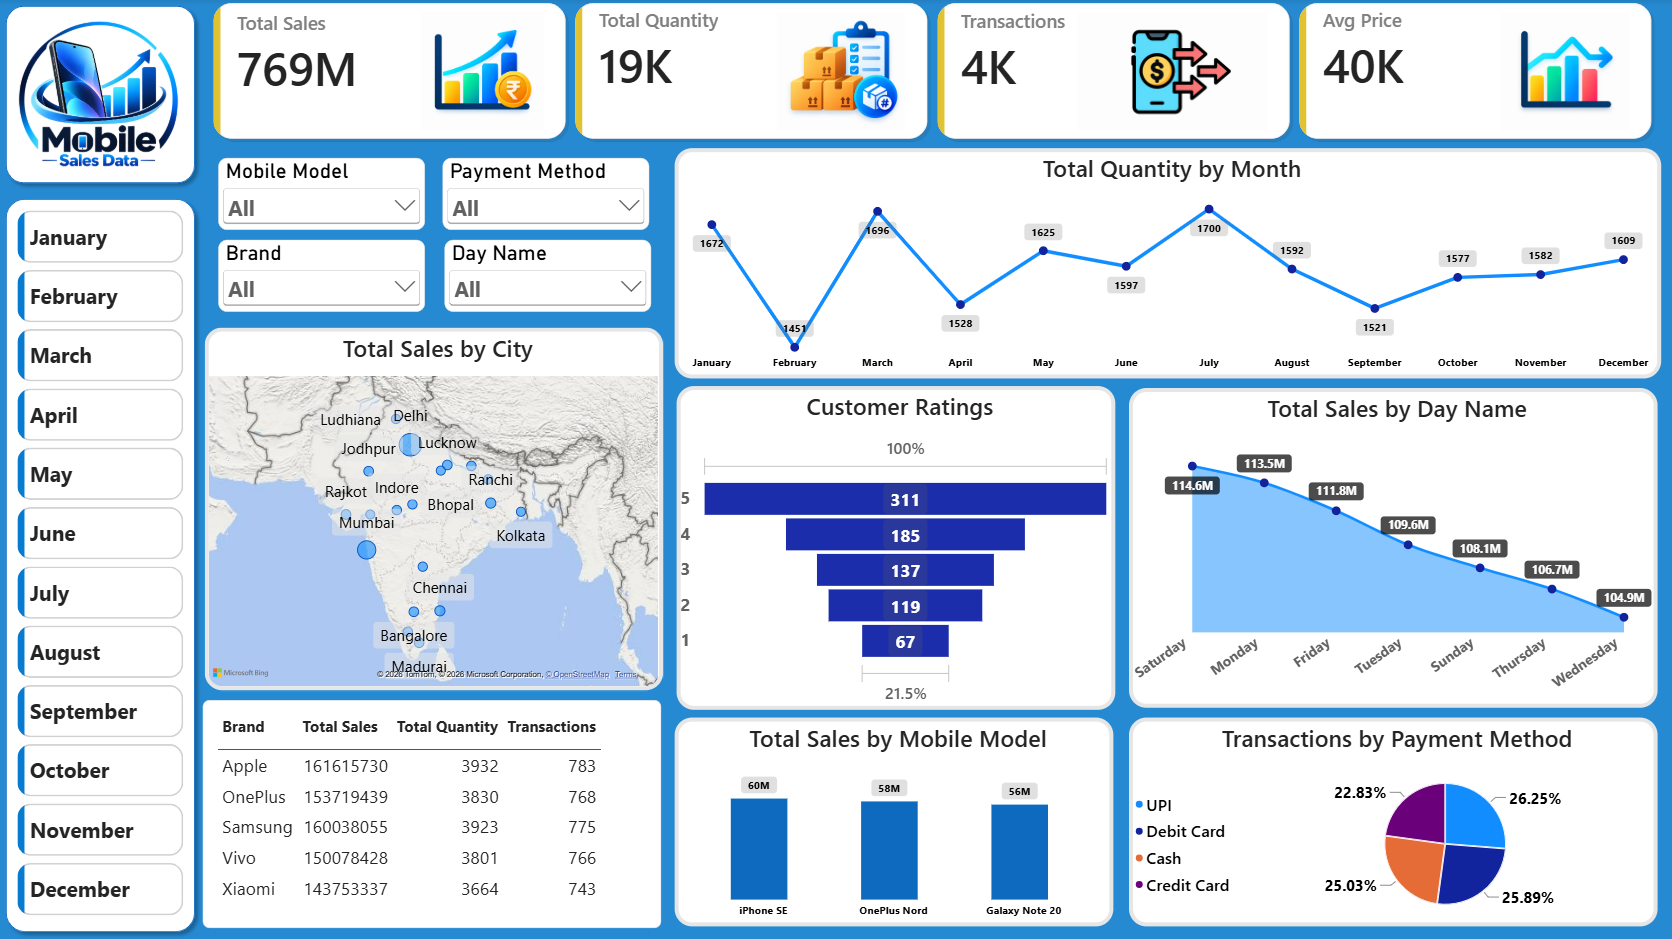

Layout of this report page (visuals, bound fields, positions):
{"tool":"powerbi","page":{"name":"Page 1","canvas":[1920,1080],"ordinal":0},"visuals":[{"type":"shape","box":[0,0,234.8,221.4],"z":0},{"type":"image","box":[20.1,13.4,190.1,205.7],"z":1000},{"type":"shape","box":[0,221.4,234.8,858.7],"z":2000},{"type":"advancedSlicerVisual","fields":{"Values":["Sheet1.Date.Variation.Date Hierarchy.Month"]},"box":[22.4,243.7,190.1,811.7],"z":3000},{"type":"cardVisual","fields":{"Data":["Sheet1.Total Sales","Sheet1.Total Quantity","Sheet1.Transactions","Sheet1.Avg Price"]},"box":[241.5,0,1662.5,167.5],"z":4000},{"type":"map","fields":{"Category":["Sheet1.City"],"Size":["Sheet1.Total Sales"]},"box":[237,377.9,525.5,415.9],"z":5000},{"type":"lineChart","fields":{"Category":["Sheet1.Date.Variation.Date Hierarchy.Month","Sheet1.Date.Variation.Date Hierarchy.Day"],"Y":["Sheet1.Total Quantity"]},"box":[775.9,172.2,1131.5,263.9],"z":6000},{"type":"clusteredColumnChart","fields":{"Category":["Sheet1.Mobile Model"],"Y":["Sheet1.Total Sales"]},"box":[775.9,825.1,503.1,239.3],"z":7000},{"type":"pieChart","fields":{"Category":["Sheet1.Payment Method"],"Y":["Sheet1.Transactions"]},"box":[1296.9,825.1,606,239.3],"z":8000},{"type":"funnel","title":"Customer Ratings ","fields":{"Category":["Sheet1.Customer Ratings"],"Y":["CountNonNull(Sheet1.Customer Ratings)"]},"box":[778.2,445,503.1,371.2],"z":9000},{"type":"areaChart","fields":{"Category":["Sheet1.Day Name"],"Y":["Sheet1.Total Sales"]},"box":[1296.9,447.2,606,366.7],"z":10000},{"type":"tableEx","fields":{"Values":["Sheet1.Brand","Sheet1.Total Sales","Sheet1.Total Quantity","Sheet1.Transactions"]},"box":[234.8,805,525.5,261.6],"z":11000},{"type":"slicer","fields":{"Values":["Sheet1.Mobile Model"]},"box":[252.7,183.4,237,82.7],"z":11001},{"type":"slicer","fields":{"Values":["Sheet1.Payment Method"]},"box":[509.8,183.4,237,82.7],"z":11002},{"type":"slicer","fields":{"Values":["Sheet1.Brand"]},"box":[252.7,277.3,237,82.7],"z":11003},{"type":"slicer","fields":{"Values":["Sheet1.Day Name"]},"box":[512.1,277.3,237,82.7],"z":11004}]}

Visuals, with their boxes in screenshot pixels (x1, y1, x2, y2), scaled from the page's 1920x1080 canvas onto the 1672x939 screenshot:
shape: x1=0, y1=0, x2=204, y2=192
image: x1=18, y1=12, x2=183, y2=190
shape: x1=0, y1=192, x2=204, y2=938
advancedSlicerVisual - Sheet1.Date.Variation.Date Hierarchy.Month: x1=20, y1=212, x2=185, y2=918
cardVisual - Sheet1.Total Sales x Sheet1.Total Quantity: x1=210, y1=0, x2=1658, y2=146
map - Sheet1.City x Sheet1.Total Sales: x1=206, y1=329, x2=664, y2=690
lineChart - Sheet1.Date.Variation.Date Hierarchy.Month x Sheet1.Date.Variation.Date Hierarchy.Day: x1=676, y1=150, x2=1661, y2=379
clusteredColumnChart - Sheet1.Mobile Model x Sheet1.Total Sales: x1=676, y1=717, x2=1114, y2=925
pieChart - Sheet1.Payment Method x Sheet1.Transactions: x1=1129, y1=717, x2=1657, y2=925
"Customer Ratings " funnel: x1=678, y1=387, x2=1116, y2=710
areaChart - Sheet1.Day Name x Sheet1.Total Sales: x1=1129, y1=389, x2=1657, y2=708
tableEx - Sheet1.Brand x Sheet1.Total Sales: x1=204, y1=700, x2=662, y2=927
slicer - Sheet1.Mobile Model: x1=220, y1=159, x2=426, y2=231
slicer - Sheet1.Payment Method: x1=444, y1=159, x2=650, y2=231
slicer - Sheet1.Brand: x1=220, y1=241, x2=426, y2=313
slicer - Sheet1.Day Name: x1=446, y1=241, x2=652, y2=313
